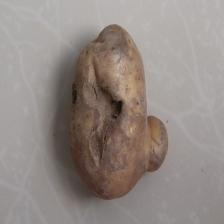Diseased-fungal potato: (68, 22, 169, 202)
